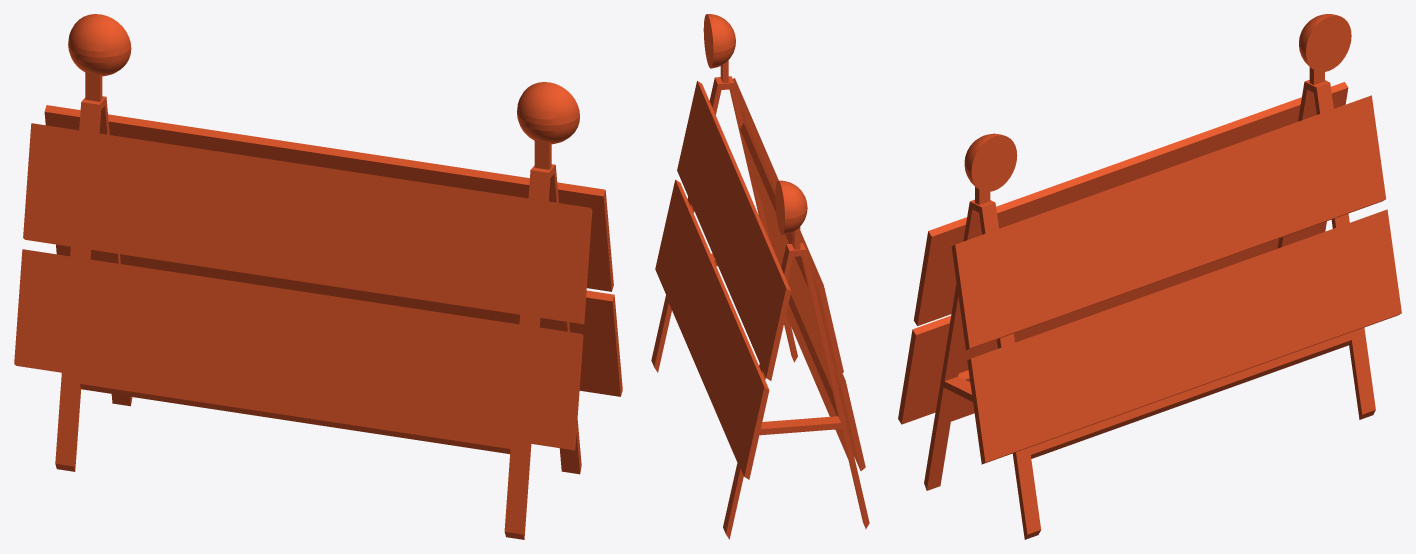
Rendered from Barrier road2.fbx.
3 views of the same model, side by side, from view 1: azimuth 30°, elevation 25°; view 2: azimuth 150°, elevation 25°; view 3: azimuth 270°, elevation 25° (orthographic). The views are drawn at different scales.
Parts seen in each view (by area): view 1: Plane.001; view 2: Plane.001; view 3: Plane.001.
Boxes of the visible parts, <box> form: Plane.001: <box>14,14,622,539</box>; Plane.001: <box>651,14,869,539</box>; Plane.001: <box>898,14,1401,539</box>.
Bounding box in the file's own units: 1077 × 996 × 1190.
